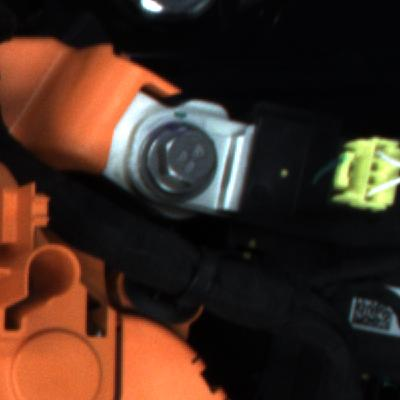nut_b: (132, 115, 227, 215)
